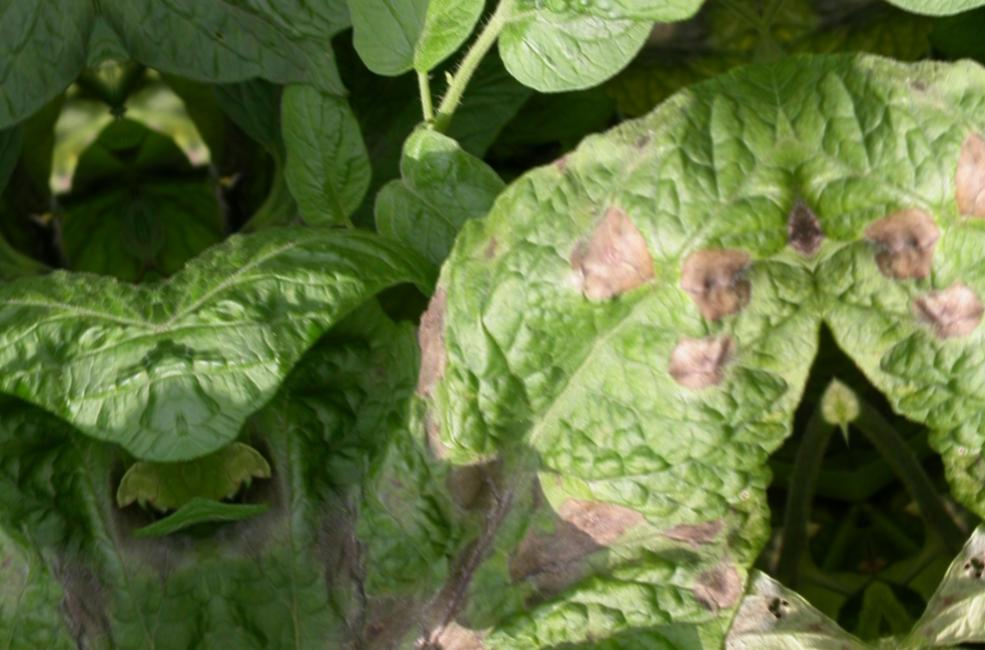Tomato leaf late blight: (189, 67, 909, 650), (76, 0, 417, 123)
